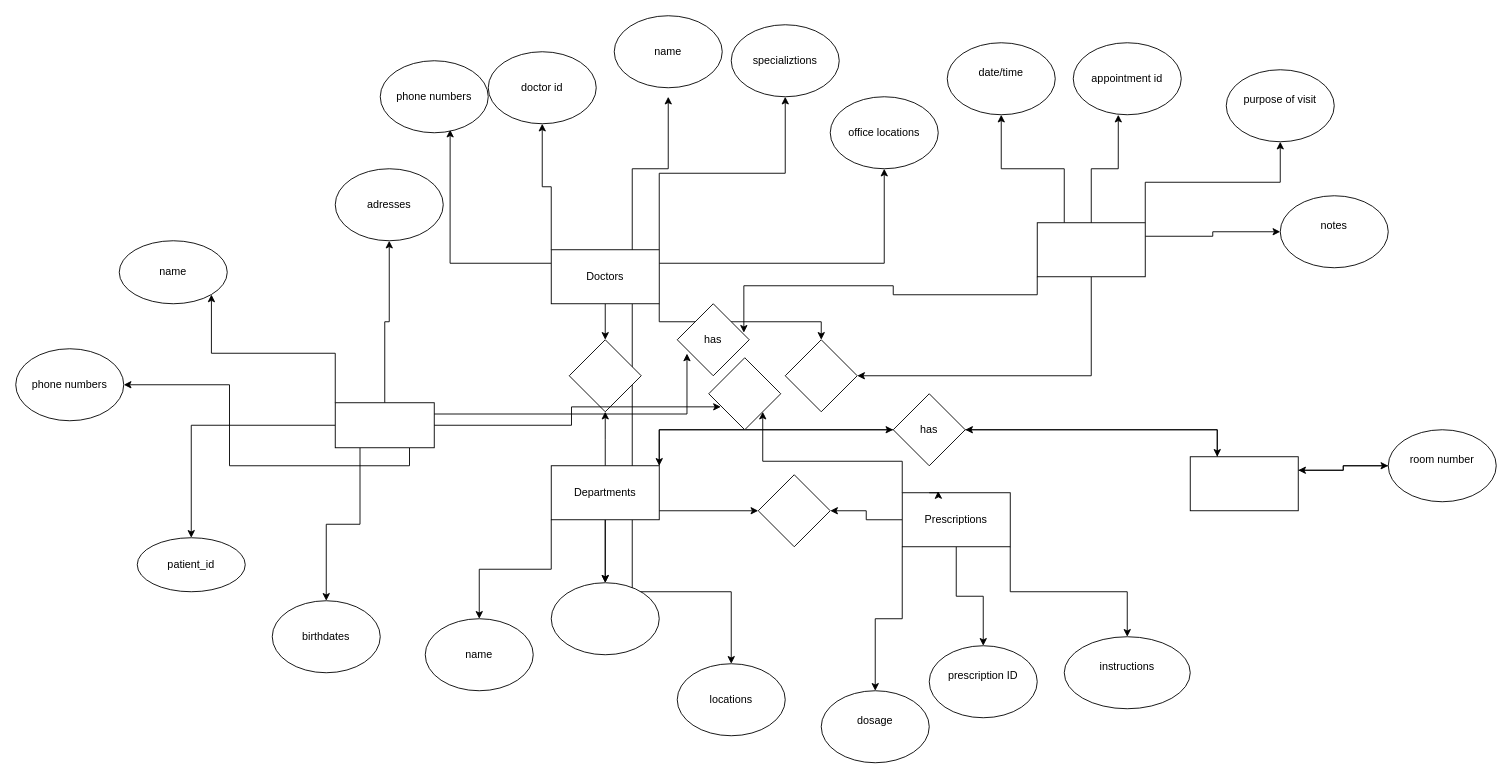
The diagram is 1512 pixels wide and 779 high, and some of its shapes have lost their labels. The box of each missing label's shape, as (x1, y1, x2, y2) in pixels:
Appointments: (1036, 222, 1145, 277)
department code: (550, 582, 659, 655)
Hospital rooms: (1189, 456, 1298, 511)
Patient: (334, 402, 434, 448)
prescribes: (757, 474, 830, 547)
receives: (708, 357, 781, 430)
threats: (784, 339, 857, 412)
works in: (568, 339, 641, 412)
